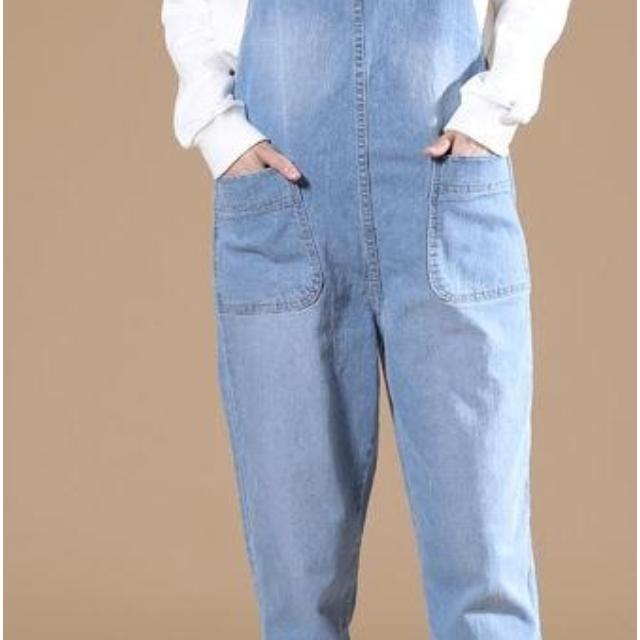denim: (245, 0, 490, 640)
